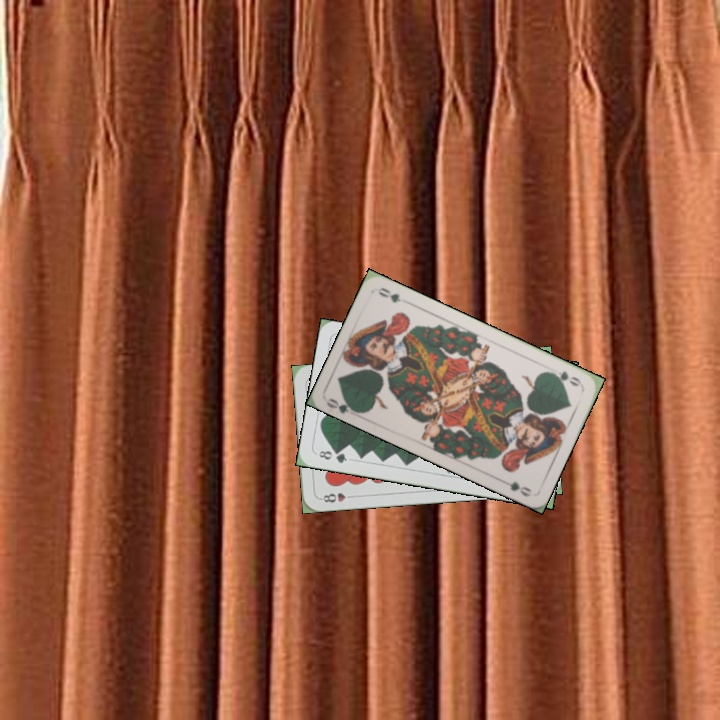G8: (315, 447, 350, 466)
GO: (323, 394, 363, 416), (545, 367, 584, 389)
H8: (316, 489, 357, 505)
